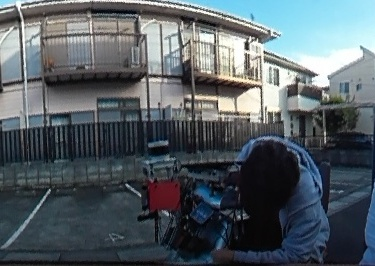person: (212, 131, 327, 266)
